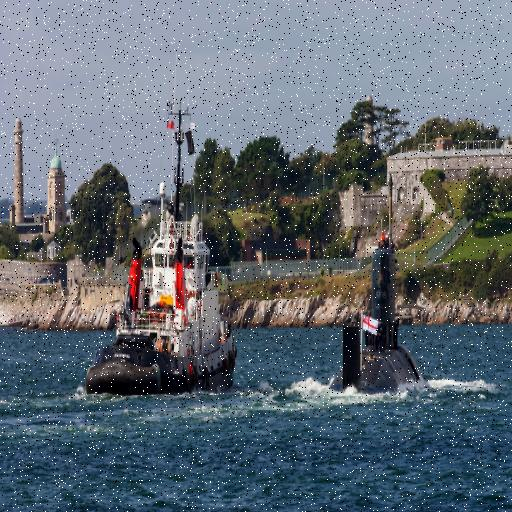submarine: (330, 176, 420, 397)
